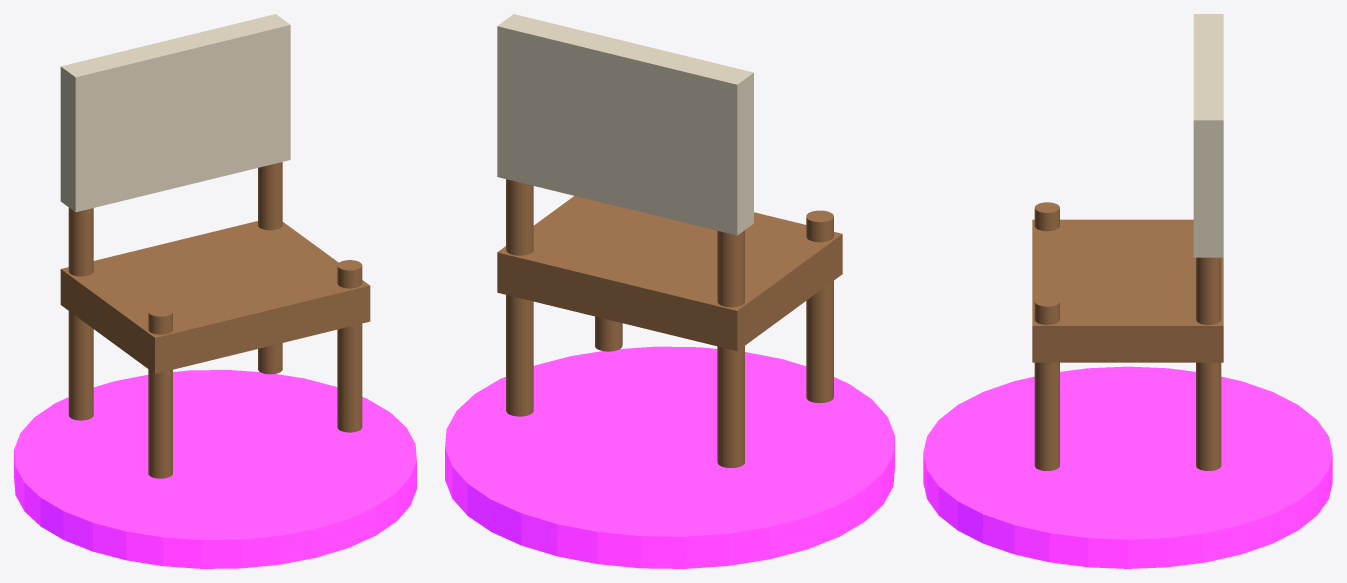
Rendered from modelling_director_chair.glb.
The picture shows the model from 3 angles, left to right: view 1: azimuth 30°, elevation 25°; view 2: azimuth 150°, elevation 25°; view 3: azimuth 270°, elevation 25°; orthographic projection. The views are drawn at different scales.
Parts seen in each view (by area): view 1: 05_03_Popular_Modelling_Director_Chair_ROOT_base, 05_03_Popular_Modelling_Director_Chair_part_02, 05_03_Popular_Modelling_Director_Chair_part_01, 05_03_Popular_Modelling_Director_Chair_part_03, 05_03_Popular_Modelling_Director_Chair_part_06, 05_03_Popular_Modelling_Director_Chair_part_05, 05_03_Popular_Modelling_Director_Chair_part_04; view 2: 05_03_Popular_Modelling_Director_Chair_ROOT_base, 05_03_Popular_Modelling_Director_Chair_part_02, 05_03_Popular_Modelling_Director_Chair_part_01, 05_03_Popular_Modelling_Director_Chair_part_03, 05_03_Popular_Modelling_Director_Chair_part_04, 05_03_Popular_Modelling_Director_Chair_part_05, 05_03_Popular_Modelling_Director_Chair_part_06; view 3: 05_03_Popular_Modelling_Director_Chair_ROOT_base, 05_03_Popular_Modelling_Director_Chair_part_01, 05_03_Popular_Modelling_Director_Chair_part_02, 05_03_Popular_Modelling_Director_Chair_part_04, 05_03_Popular_Modelling_Director_Chair_part_06, 05_03_Popular_Modelling_Director_Chair_part_05.
Part boxes in pixels (box(x1,y1,x2,y2)): 05_03_Popular_Modelling_Director_Chair_ROOT_base: box(14, 370, 416, 568); 05_03_Popular_Modelling_Director_Chair_part_02: box(60, 14, 290, 212); 05_03_Popular_Modelling_Director_Chair_part_01: box(60, 221, 370, 373); 05_03_Popular_Modelling_Director_Chair_part_03: box(68, 207, 93, 420); 05_03_Popular_Modelling_Director_Chair_part_06: box(337, 260, 362, 432); 05_03_Popular_Modelling_Director_Chair_part_05: box(148, 306, 172, 478); 05_03_Popular_Modelling_Director_Chair_part_04: box(258, 162, 282, 374); 05_03_Popular_Modelling_Director_Chair_ROOT_base: box(445, 346, 894, 568); 05_03_Popular_Modelling_Director_Chair_part_02: box(497, 14, 753, 235); 05_03_Popular_Modelling_Director_Chair_part_01: box(497, 196, 842, 351); 05_03_Popular_Modelling_Director_Chair_part_03: box(717, 230, 744, 467); 05_03_Popular_Modelling_Director_Chair_part_04: box(506, 179, 533, 416); 05_03_Popular_Modelling_Director_Chair_part_05: box(806, 210, 833, 403); 05_03_Popular_Modelling_Director_Chair_part_06: box(595, 316, 622, 351); 05_03_Popular_Modelling_Director_Chair_ROOT_base: box(923, 366, 1332, 568); 05_03_Popular_Modelling_Director_Chair_part_01: box(1032, 219, 1223, 362); 05_03_Popular_Modelling_Director_Chair_part_02: box(1193, 14, 1223, 257); 05_03_Popular_Modelling_Director_Chair_part_04: box(1196, 257, 1221, 470); 05_03_Popular_Modelling_Director_Chair_part_06: box(1034, 296, 1059, 470); 05_03_Popular_Modelling_Director_Chair_part_05: box(1034, 202, 1059, 231).
Bounding box in the file's own units: 0.76 × 0.85 × 0.76.
